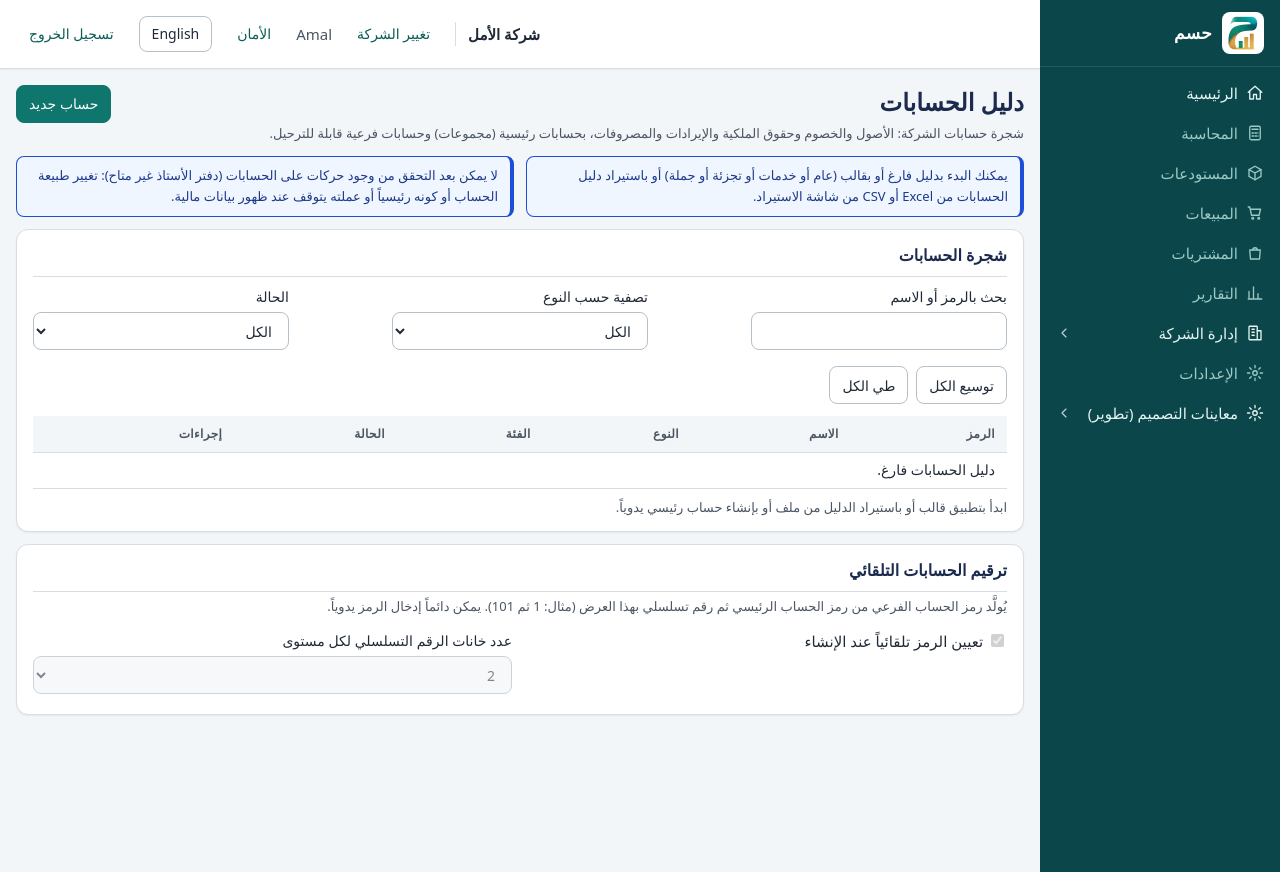
MFA step-up dialog › Cancel leaves the screen and its input intact and says the action was NOT done
Check: the element with test id "company-name" is shown, box [455,22,540,46]
Click the button "حساب جديد" at coordinates (64, 104), box [16,85,112,123]
(page scrolled)
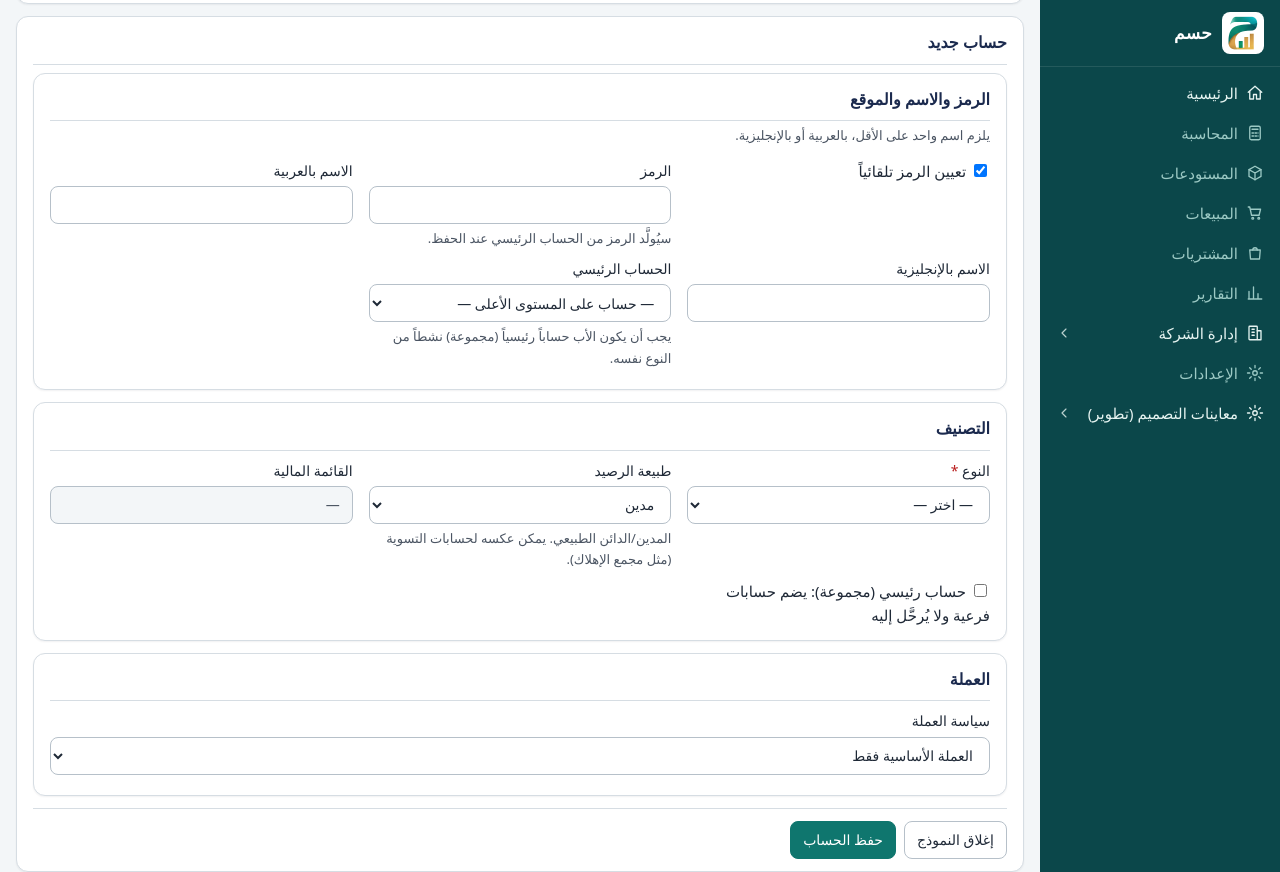
Select "خصوم" in the dropdown labelled "النوع *" at coordinates (839, 505), box [687,486,990,524]
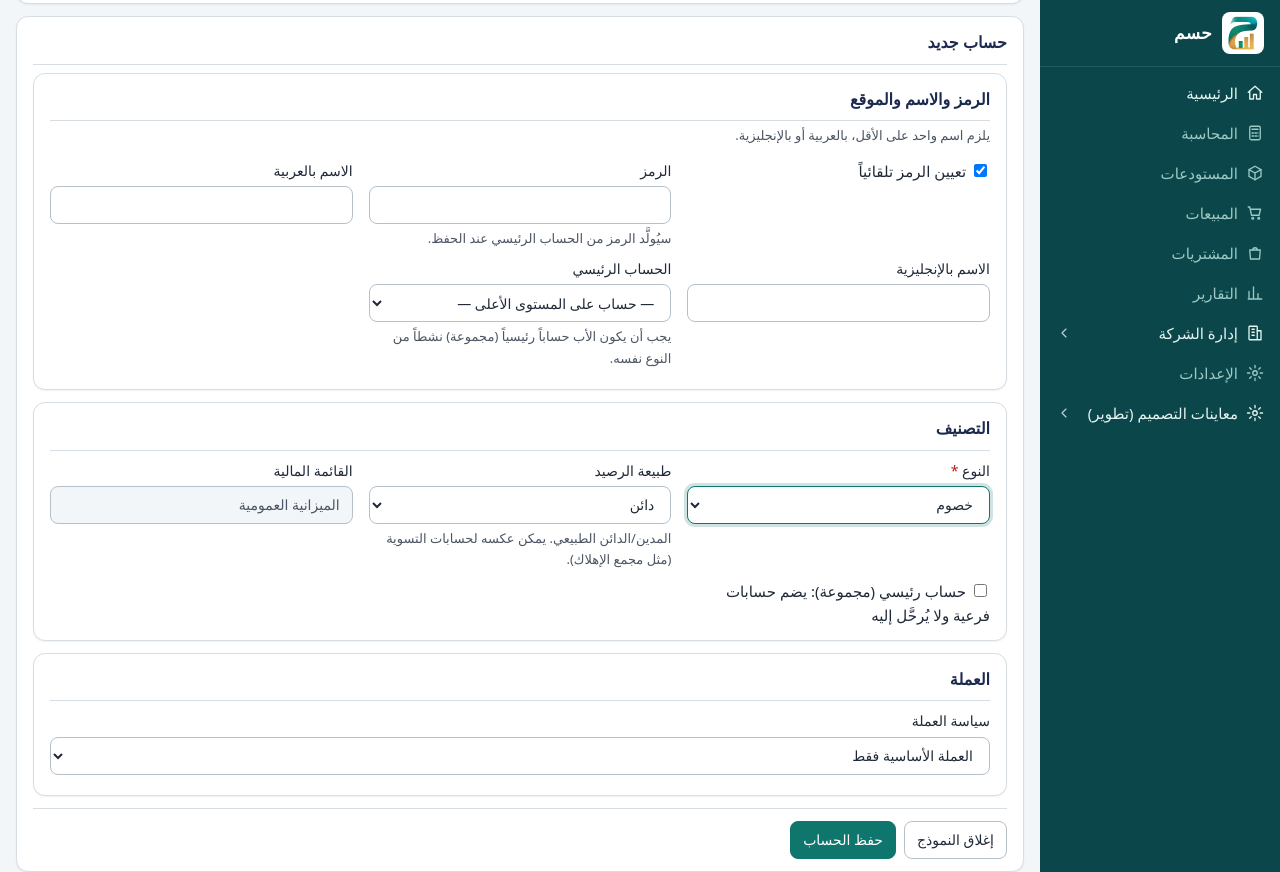
Type "الخصوم" into the field labelled "الاسم بالعربية" at coordinates (201, 205), box [50,186,353,224]
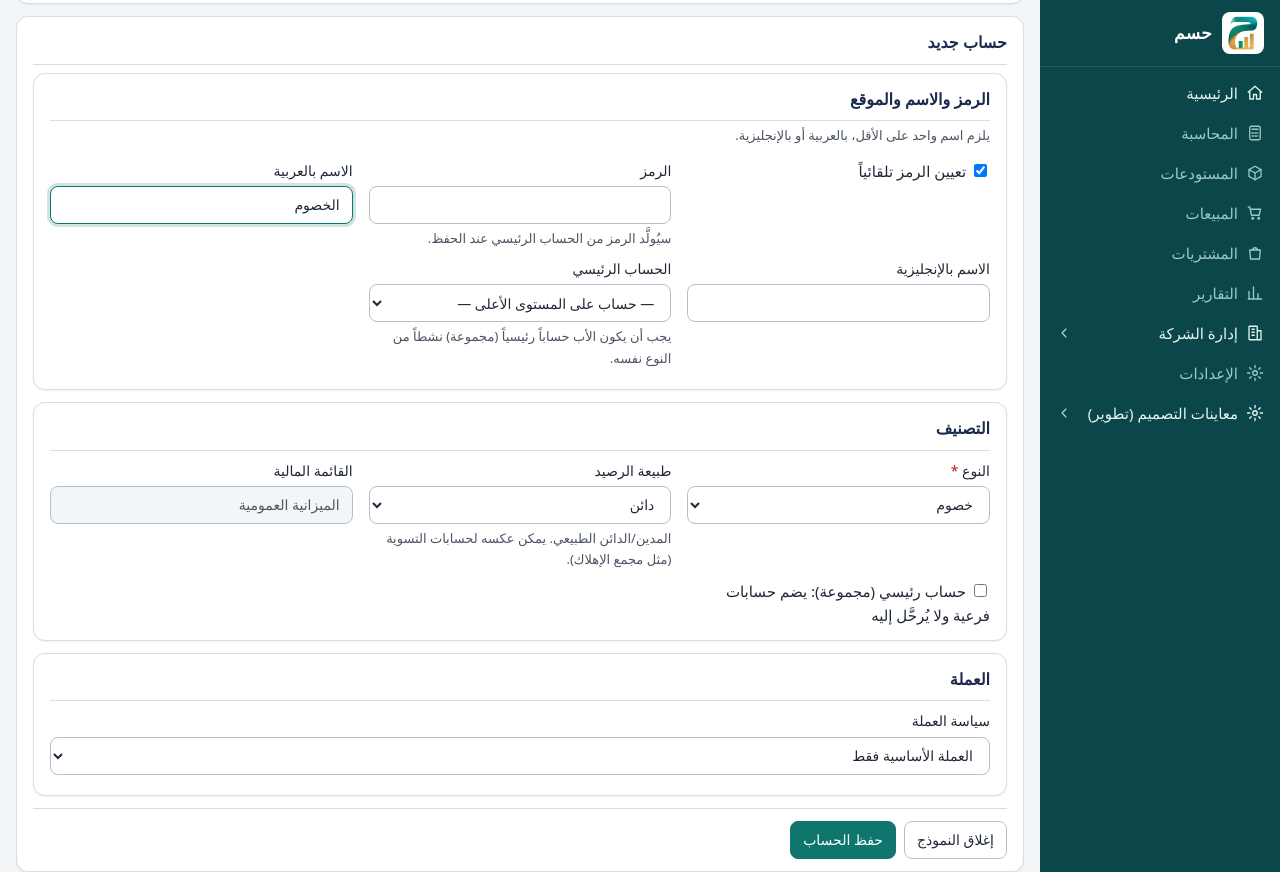
Click the checkbox labelled "حساب رئيسي (مجموعة): يضم حسابات فرعية ولا يُرحَّل إليه" at coordinates (980, 590), box [974,584,987,596]
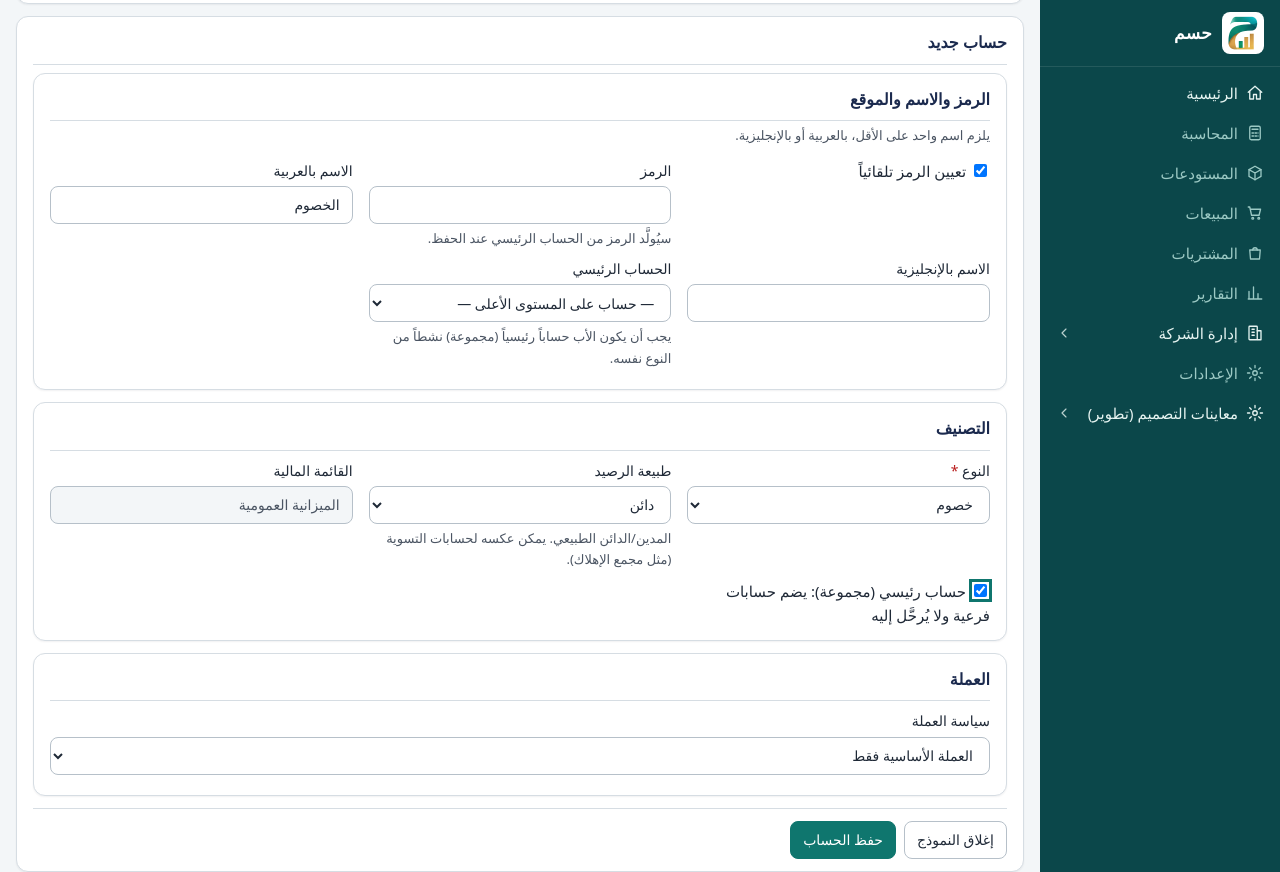
Click the button "حفظ الحساب" at coordinates (843, 840), box [790,820,896,858]
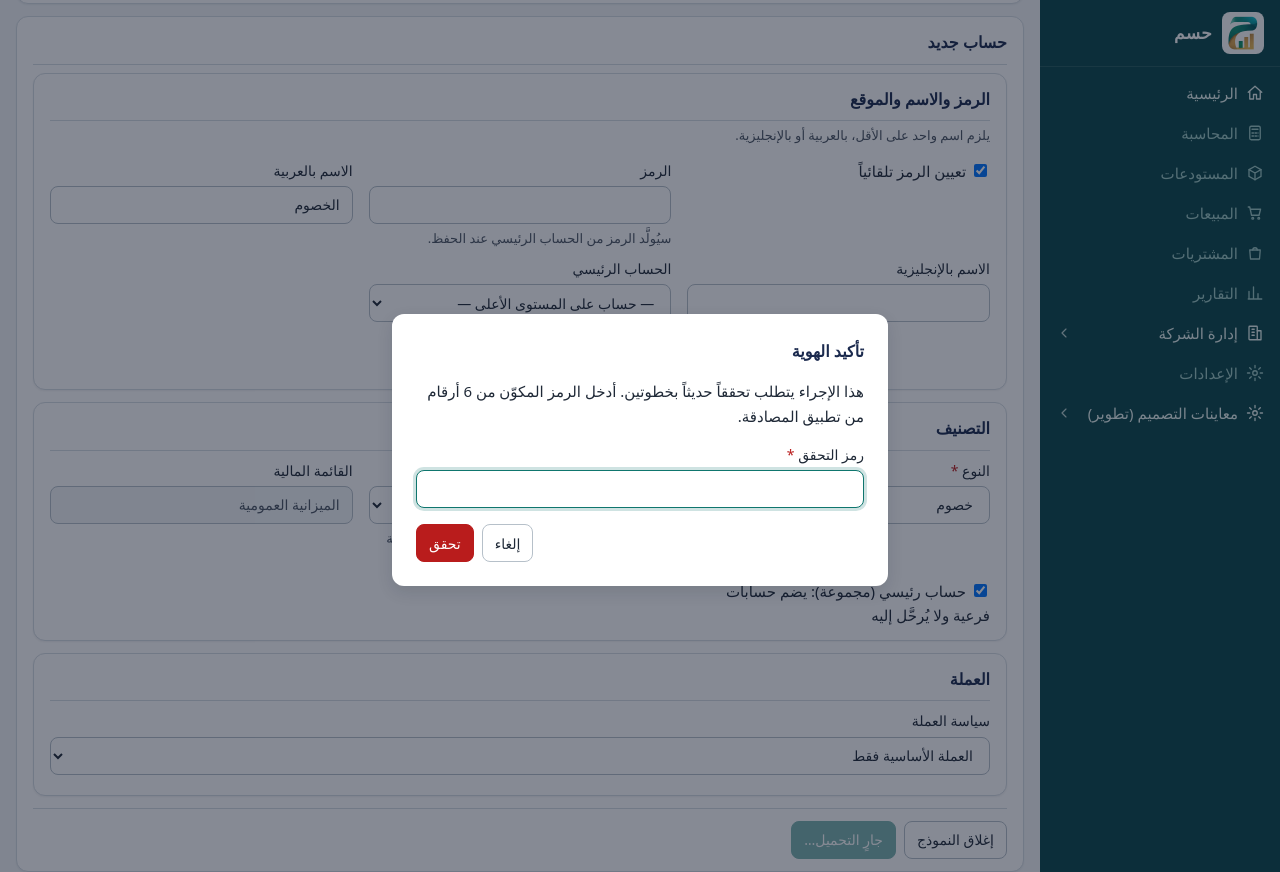
Click the button "إلغاء" at coordinates (508, 544), box [482,524,534,562]
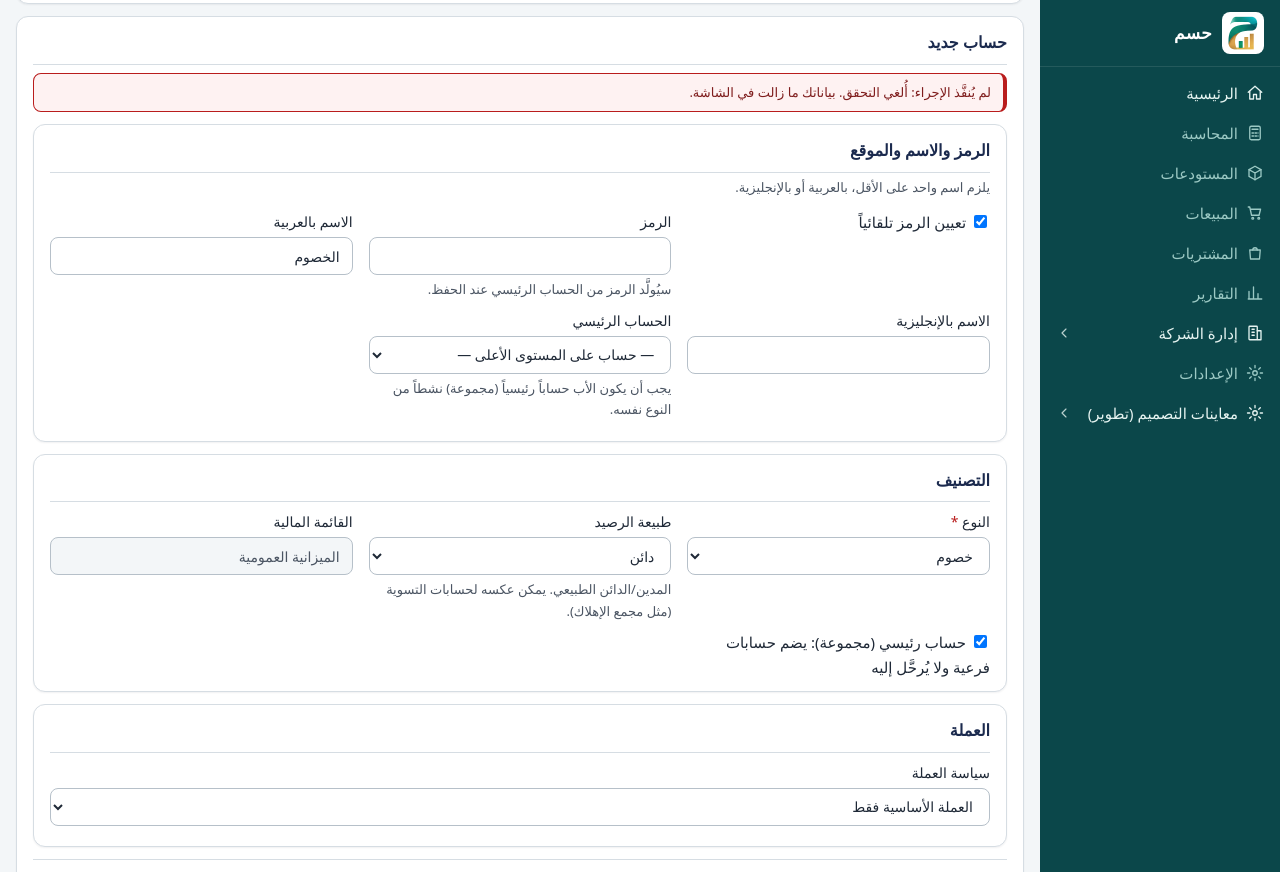
Check: the dialog is gone
Check: the text "لم يُنفَّذ الإجراء: أُلغي التحقق. بياناتك ما زالت في الشاشة." is shown, box [33,73,1007,112]
